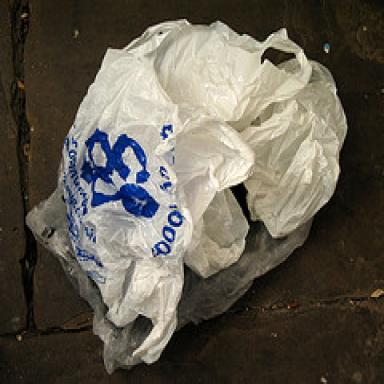plasticbag: (24, 17, 349, 373)
